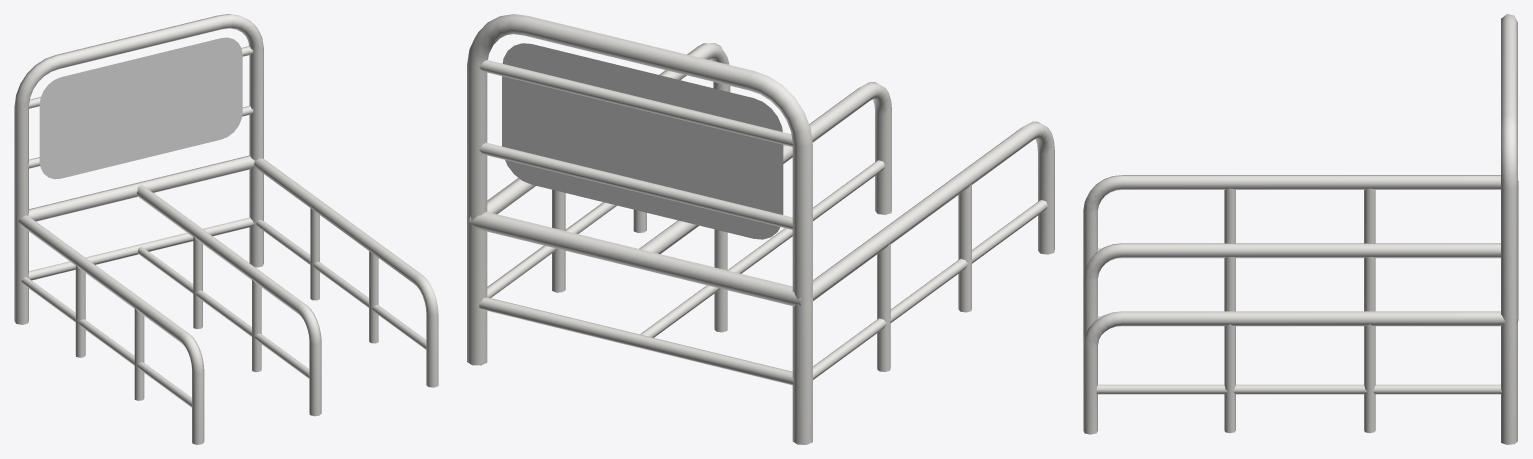
File: TrolleyBay.fbx
The picture shows the model from 3 angles, left to right: view 1: azimuth 30°, elevation 25°; view 2: azimuth 150°, elevation 25°; view 3: azimuth 270°, elevation 25°; orthographic projection. The views are drawn at different scales.
Parts seen in each view (by area): view 1: TrolleyBay; view 2: TrolleyBay; view 3: TrolleyBay.
Part boxes in pixels (x1,y1,x2,y2): TrolleyBay: (14, 14, 438, 444); TrolleyBay: (467, 14, 1054, 444); TrolleyBay: (1083, 14, 1518, 444).
Size of the model in its own units: 243 by 242 by 312.
